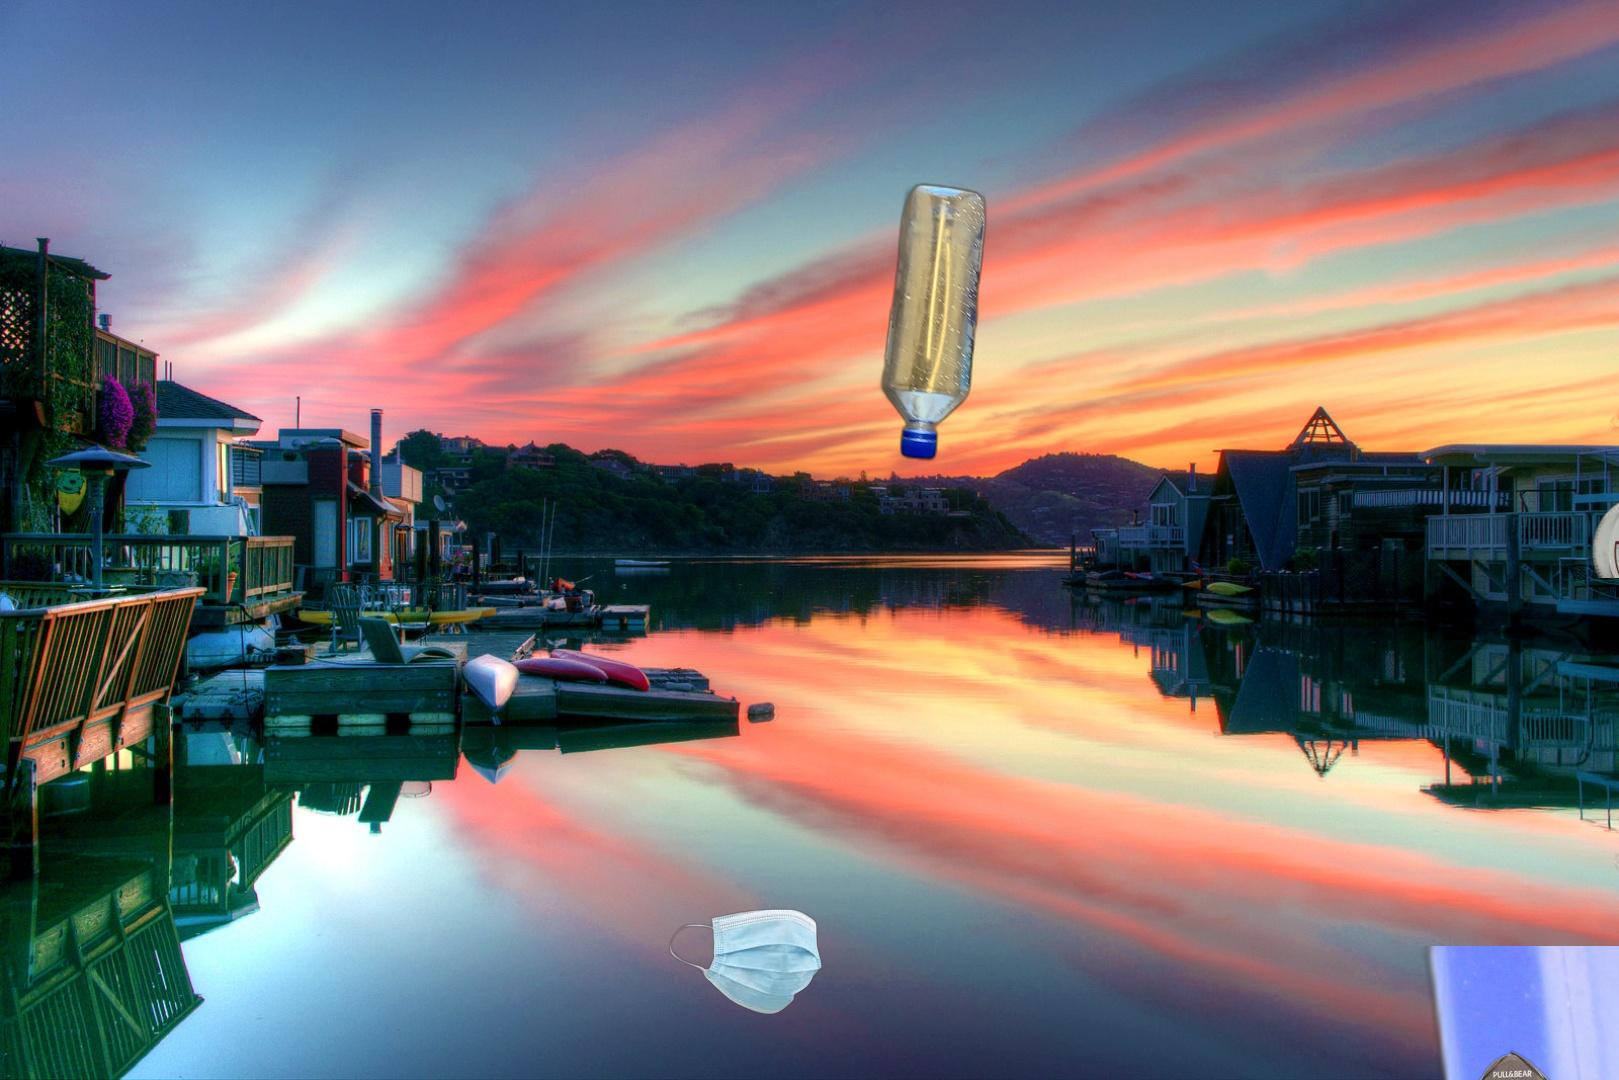clothes: (1367, 1016, 1619, 1080)
glass: (1588, 436, 1619, 579)
penholder: (1412, 946, 1619, 1080)
plastic-bottles: (870, 178, 990, 465)
trash: (667, 906, 825, 1017)
